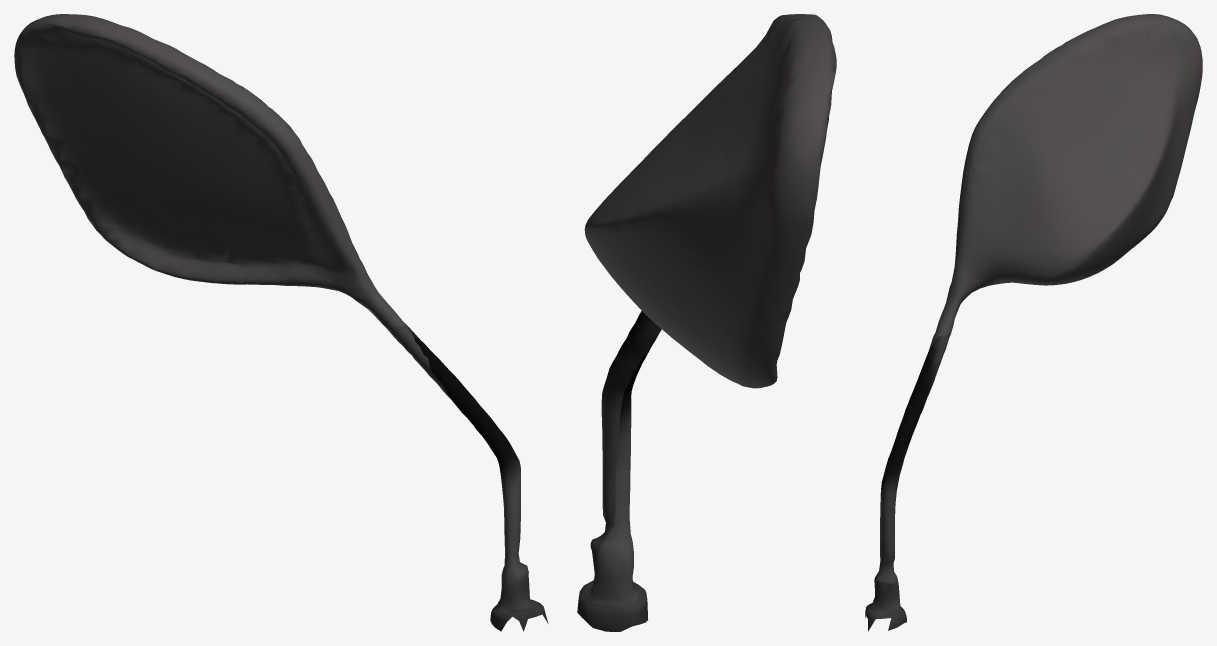
Rendered from blt150_03.obj.
3 views of the same model, side by side, from view 1: azimuth 30°, elevation 25°; view 2: azimuth 150°, elevation 25°; view 3: azimuth 270°, elevation 25° (orthographic). The views are drawn at different scales.
Size of the model in its own units: 0.8064 by 1.27 by 0.7971.
